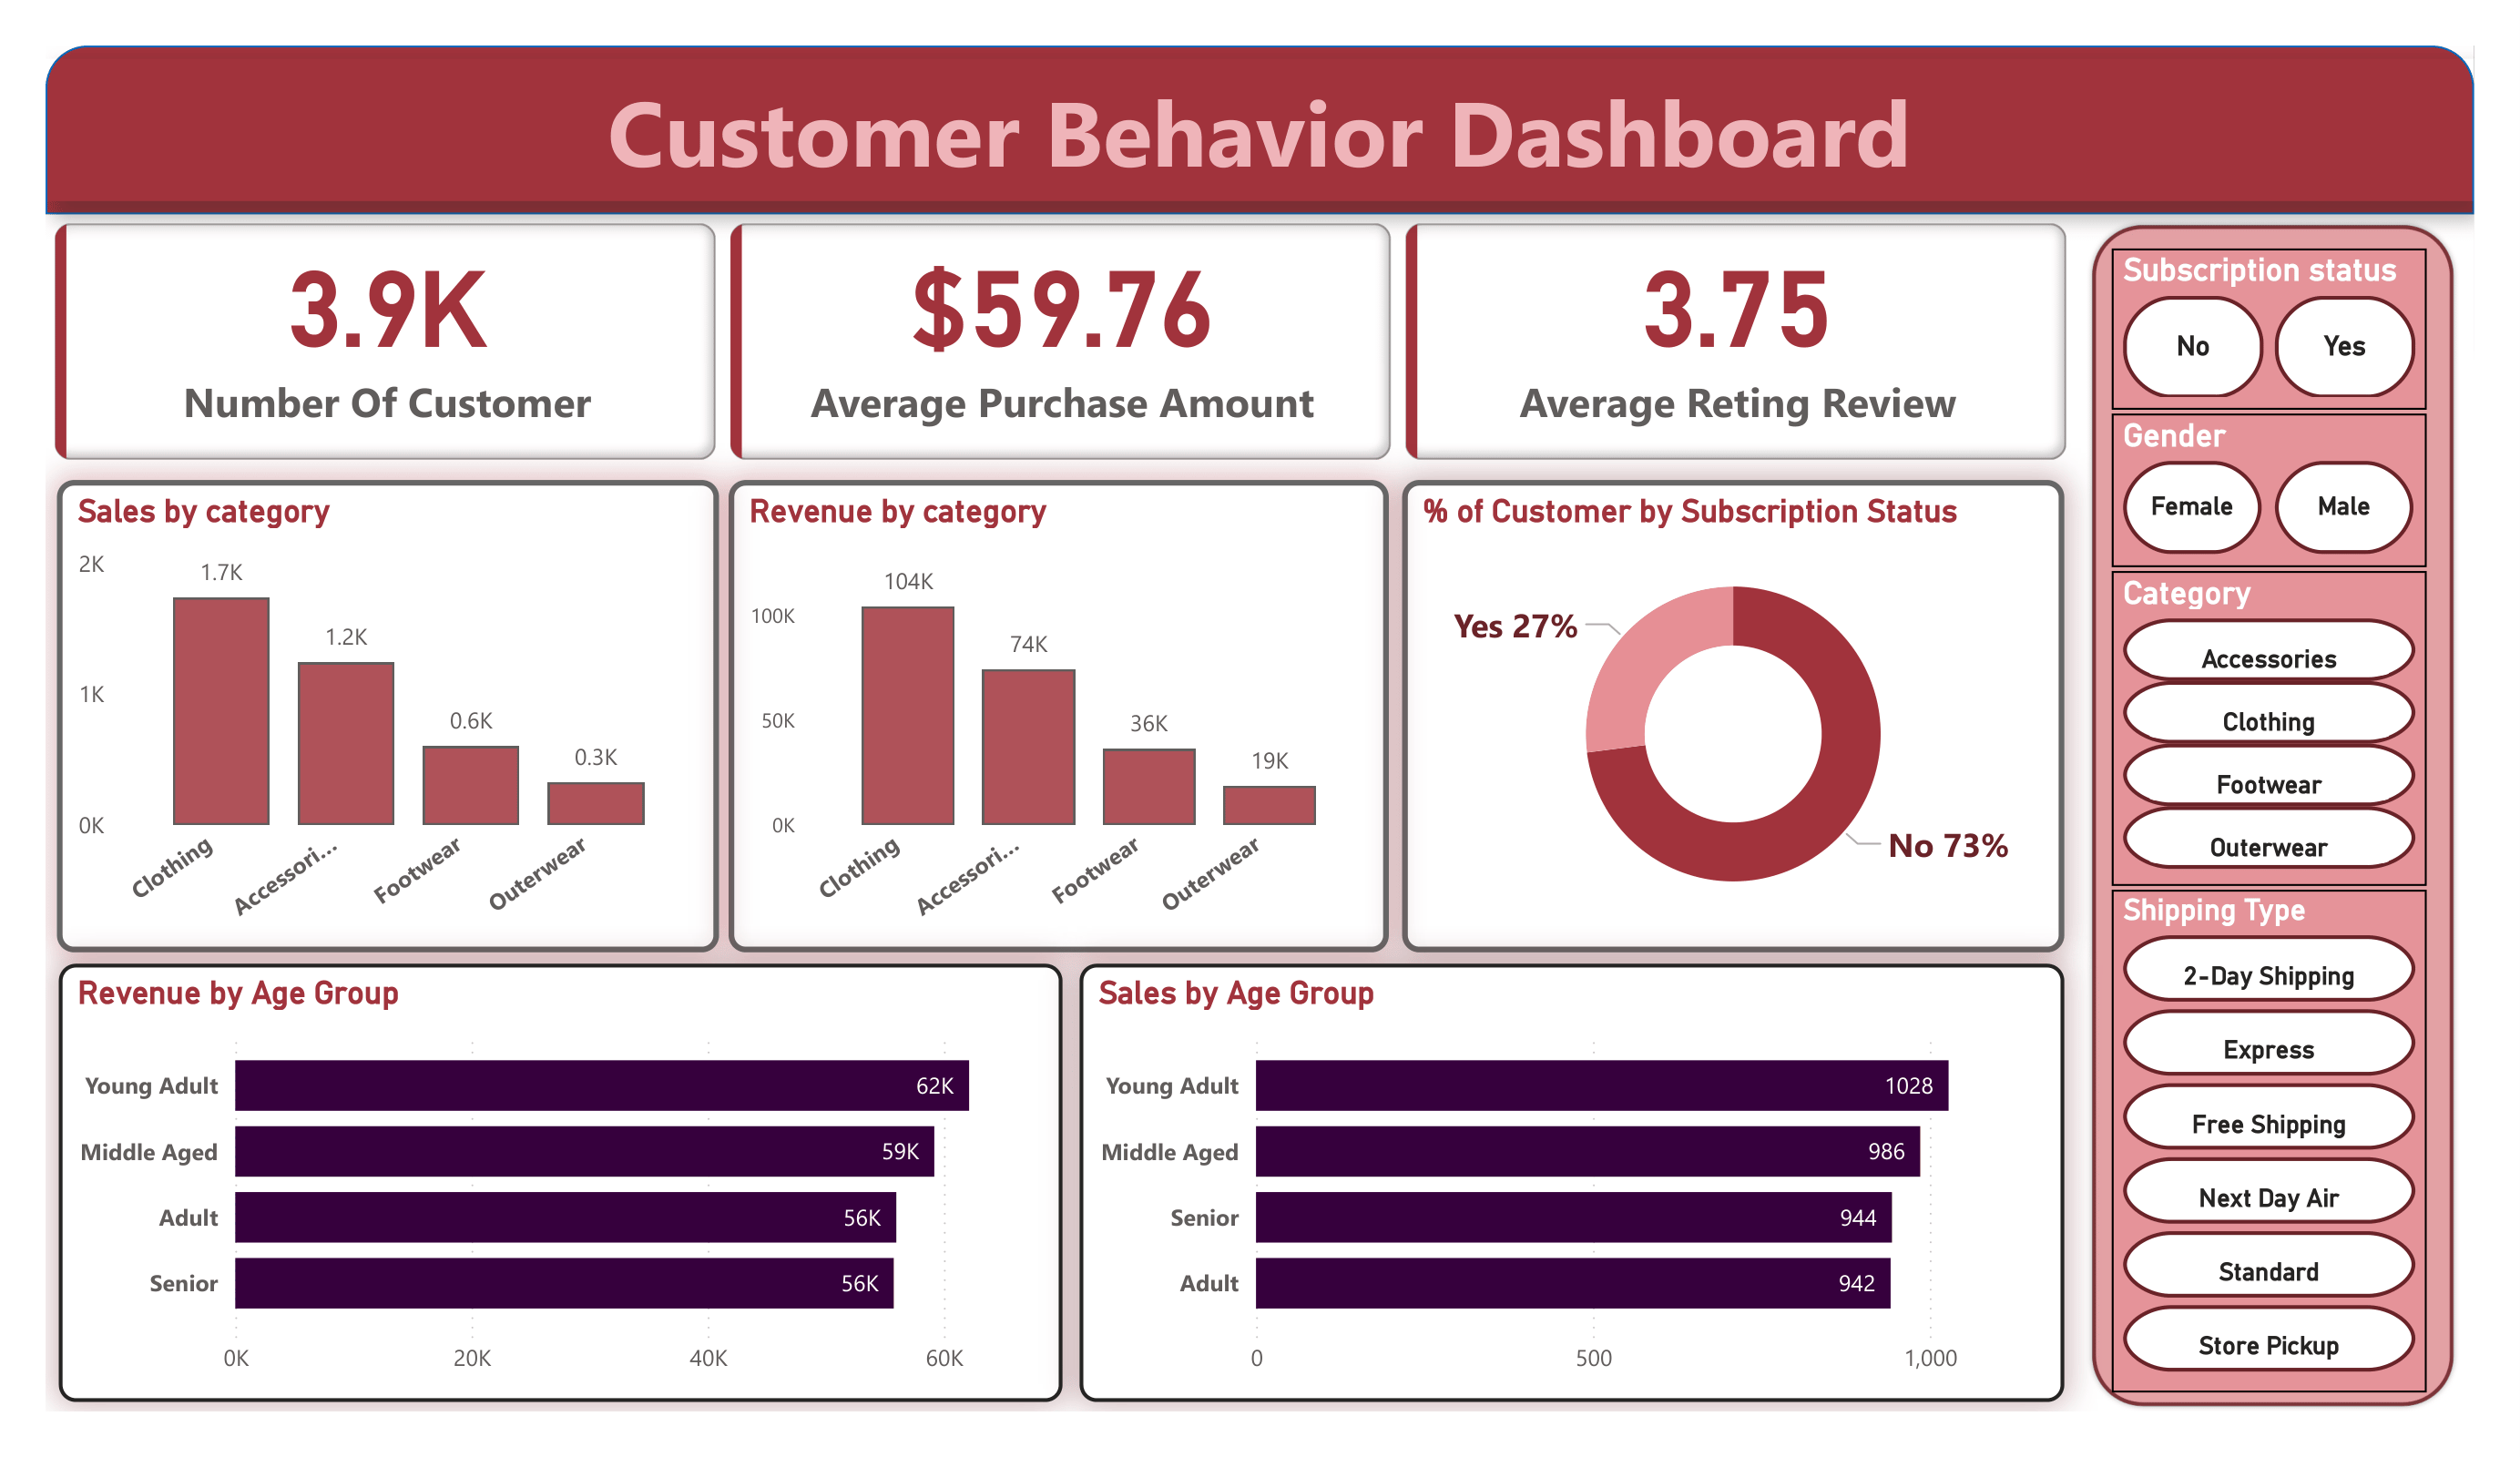

The page's visual inventory and layout, read from the dashboard file:
{"tool":"powerbi","page":{"name":"Page 1","canvas":[1280,720],"ordinal":0},"visuals":[{"type":"cardVisual","fields":{"Data":["customers.Number Of Customer","customers.Average Purchase Amount","customers.Average Reting Review"]},"box":[0,89.3,1071.2,134.5],"z":0},{"type":"shape","box":[0,0,1280.3,89.3],"z":1000},{"type":"textbox","box":[0,7.3,1280.3,74.6],"z":2000},{"type":"donutChart","title":"% of Customer by Subscription Status ","fields":{"Category":["customers.subscription_status"],"Y":["CountNonNull(customers.customer_id)"]},"box":[715.4,228.7,348.5,249.5],"z":3000},{"type":"clusteredColumnChart","title":"Revenue by category","fields":{"Y":["Sum(customers.purchase_amount)"],"Category":["customers.category"]},"box":[359.5,228.7,348.5,249.5],"z":4000},{"type":"clusteredColumnChart","title":"Sales by category","fields":{"Category":["customers.category"],"Y":["CountNonNull(customers.customer_id)"]},"box":[6.1,228.7,348.5,249.5],"z":5000},{"type":"shape","box":[1075.6,91.8,196,627.7],"z":6000},{"type":"advancedSlicerVisual","title":"Subscription status","fields":{"Values":["customers.subscription_status"]},"box":[1089.2,106.7,166.2,85.6],"z":7000},{"type":"advancedSlicerVisual","title":"Gender","fields":{"Values":["customers.gender"]},"box":[1089.2,193.5,166.2,81.9],"z":8000},{"type":"advancedSlicerVisual","title":"Category","fields":{"Values":["customers.category"]},"box":[1089.2,276.6,166.2,166.2],"z":9000},{"type":"advancedSlicerVisual","title":"Shipping Type","fields":{"Values":["customers.shipping_type"]},"box":[1089.2,445.4,166.2,264.2],"z":10000},{"type":"clusteredBarChart","title":"Revenue by Age Group","fields":{"Y":["Sum(customers.purchase_amount)"],"Category":["customers.age_group"]},"box":[7.4,483.8,528.5,230.7],"z":11000},{"type":"clusteredBarChart","title":"Sales by Age Group","fields":{"Y":["CountNonNull(customers.customer_id)"],"Category":["customers.age_group"]},"box":[544.6,483.8,519.8,230.7],"z":12000}]}

Visuals, with their boxes in screenshot pixels (x1, y1, x2, y2):
cardVisual - customers.Number Of Customer x customers.Average Purchase Amount: {"left": 53, "top": 219, "right": 2058, "bottom": 472}
shape: {"left": 53, "top": 53, "right": 2450, "bottom": 219}
textbox: {"left": 53, "top": 66, "right": 2450, "bottom": 206}
"% of Customer by Subscription Status " donutChart: {"left": 1393, "top": 481, "right": 2045, "bottom": 948}
"Revenue by category" clusteredColumnChart: {"left": 726, "top": 481, "right": 1378, "bottom": 948}
"Sales by category" clusteredColumnChart: {"left": 64, "top": 481, "right": 717, "bottom": 948}
shape: {"left": 2066, "top": 224, "right": 2433, "bottom": 1400}
"Subscription status" advancedSlicerVisual: {"left": 2092, "top": 252, "right": 2403, "bottom": 413}
"Gender" advancedSlicerVisual: {"left": 2092, "top": 415, "right": 2403, "bottom": 568}
"Category" advancedSlicerVisual: {"left": 2092, "top": 570, "right": 2403, "bottom": 881}
"Shipping Type" advancedSlicerVisual: {"left": 2092, "top": 887, "right": 2403, "bottom": 1381}
"Revenue by Age Group" clusteredBarChart: {"left": 66, "top": 958, "right": 1056, "bottom": 1391}
"Sales by Age Group" clusteredBarChart: {"left": 1072, "top": 958, "right": 2046, "bottom": 1391}
